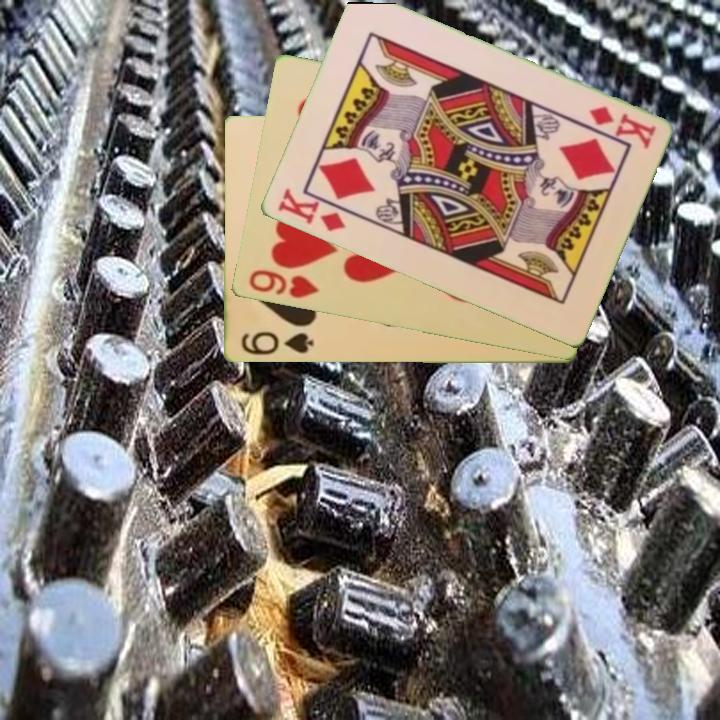6s: (237, 328, 316, 358)
9h: (245, 266, 321, 302)
Kd: (273, 184, 348, 235), (584, 103, 659, 152)
